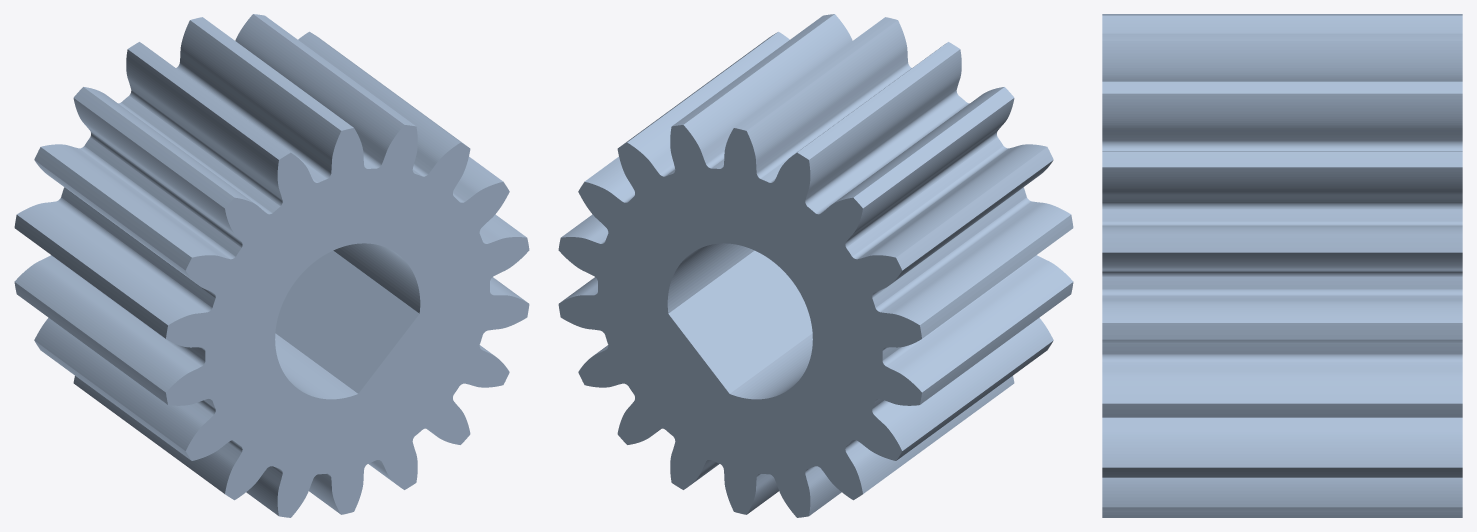
3 views of the same model, side by side, from view 1: azimuth 30°, elevation 25°; view 2: azimuth 150°, elevation 25°; view 3: azimuth 270°, elevation 25° (orthographic). The views are drawn at different scales.
Parts seen in each view (by area): view 1: part101; view 2: part101; view 3: part101.
Boxes of the visible parts, bbox=[...] form: part101: bbox=[14, 14, 529, 517]; part101: bbox=[558, 14, 1073, 517]; part101: bbox=[1102, 14, 1462, 517].
Bounding box in the file's own units: 20.79 × 21 × 15.
